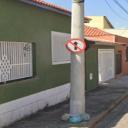NoSeguir: (66, 38, 86, 53)
